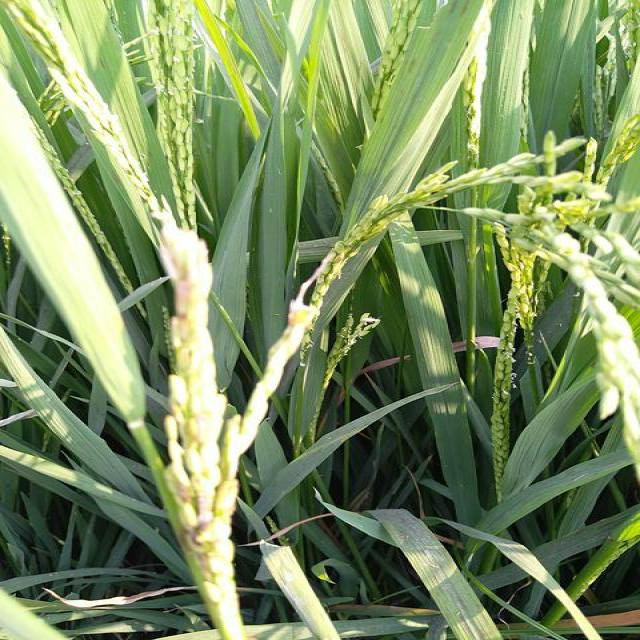Panicle Blight: (153, 207, 321, 639)
